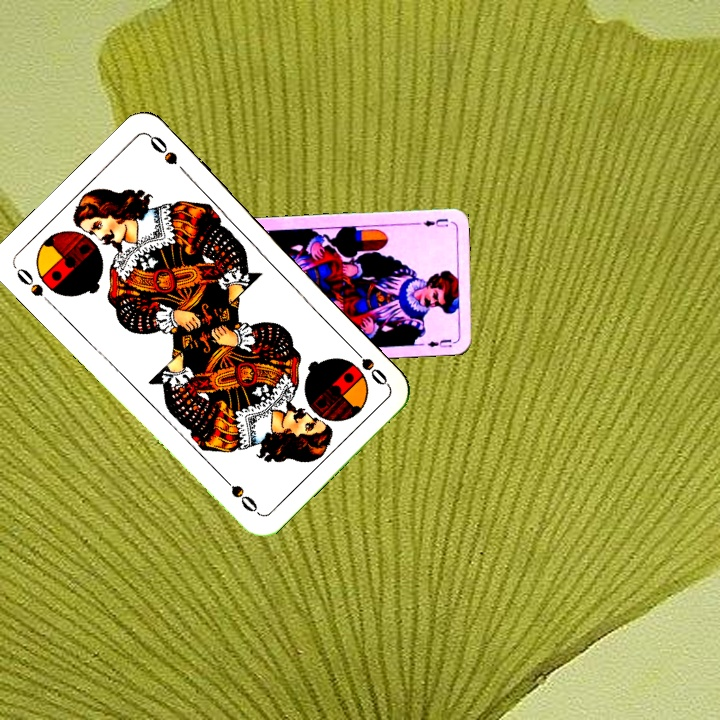EU: (419, 214, 450, 229)
SO: (11, 263, 57, 309), (345, 341, 390, 388)
